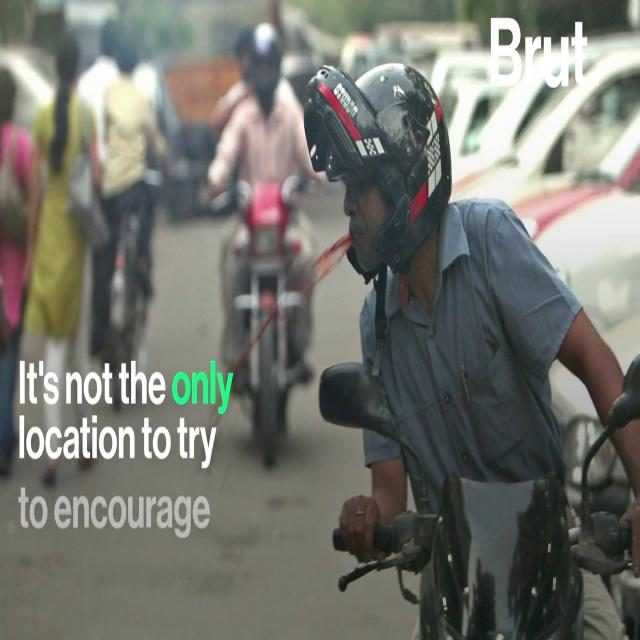spit: (238, 192, 373, 417)
